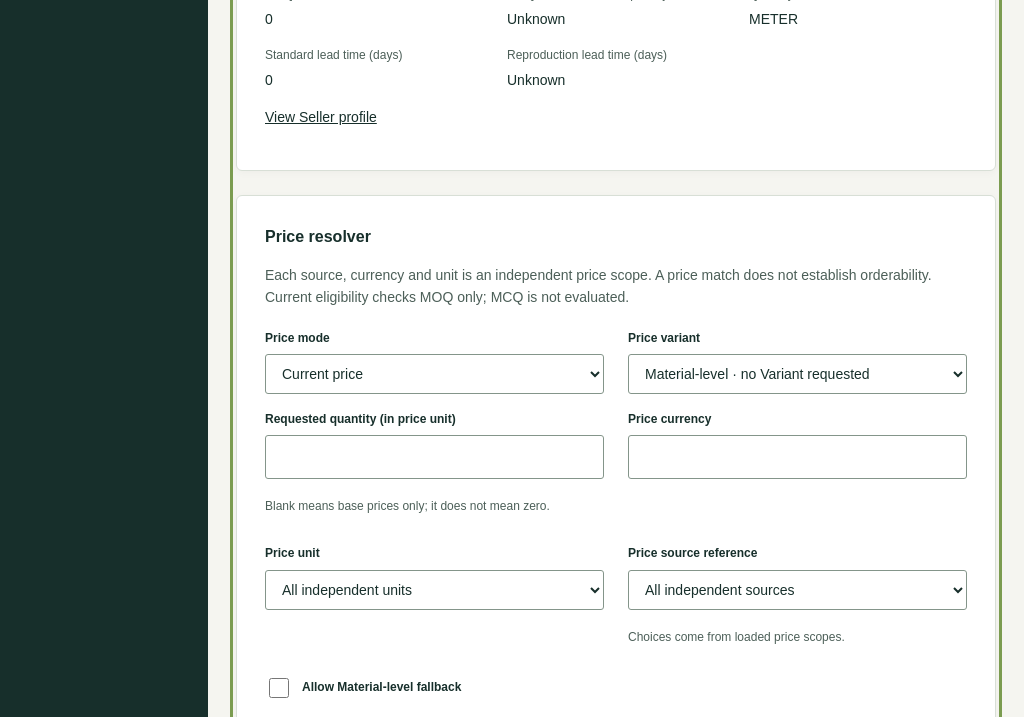
Scenario: historical lookup transmits explicit UTC, exact quantity, requestedVariantId and fallback
(page scrolled)
Select "Specified-time price" in the dropdown labelled "Price mode" at (434, 374), box [265,354,604,394]
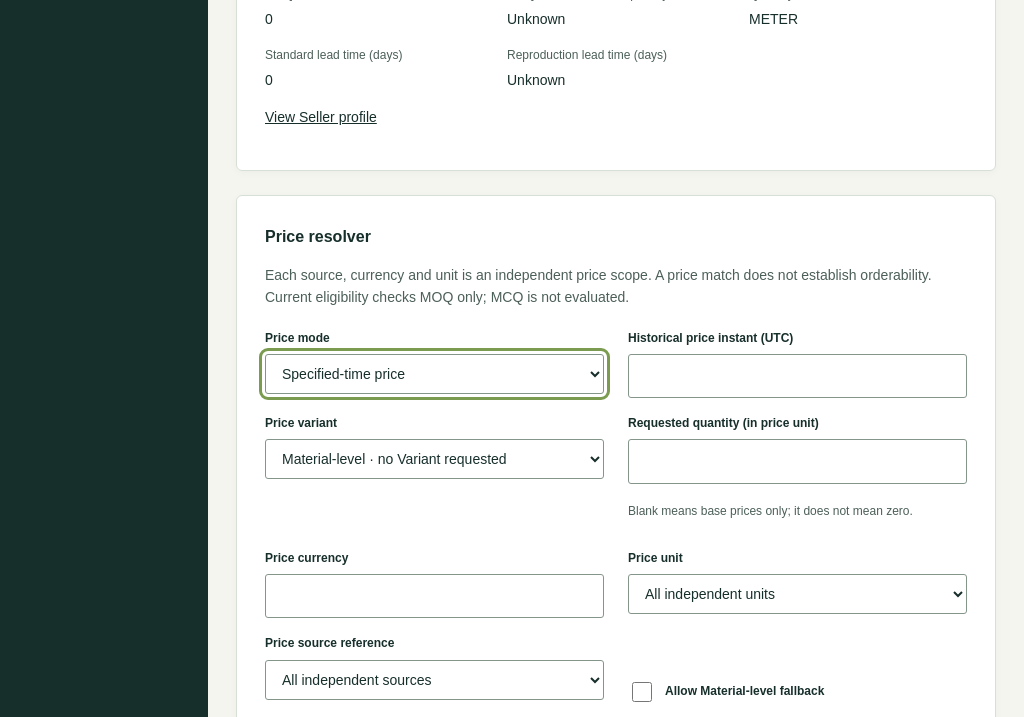
Type "2025-06-01T00:00:00Z" into the field labelled "Historical price instant (UTC)" at (798, 376), box [628,354,967,398]
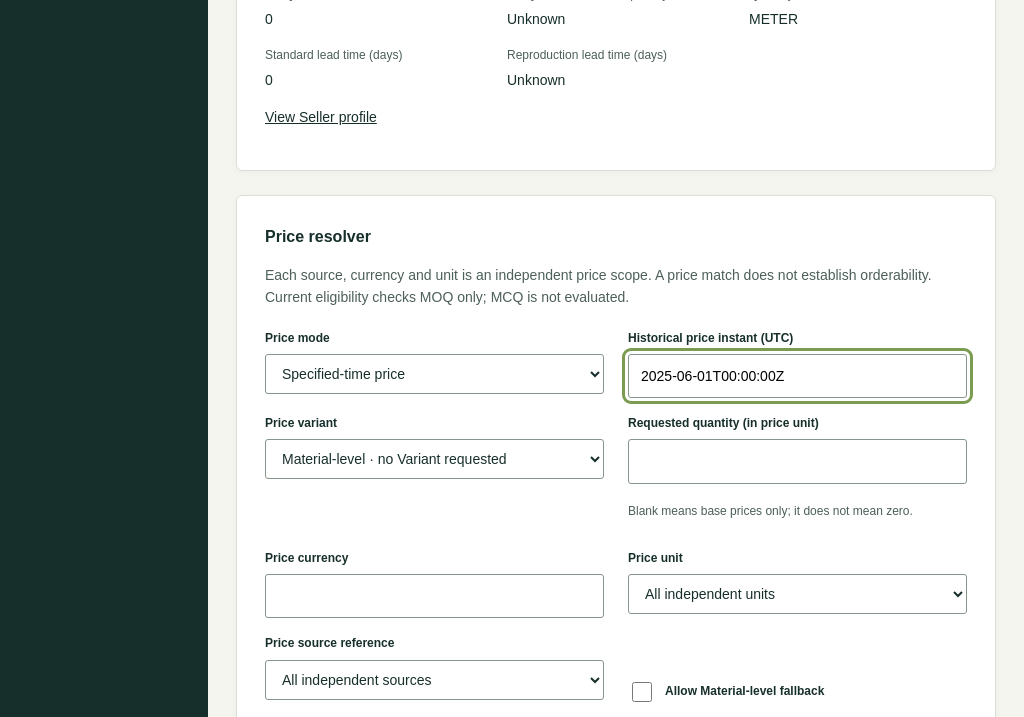
Type "999999999999999.9999" into the field labelled "Requested quantity (in price unit)" at (798, 462), box [628,439,967,484]
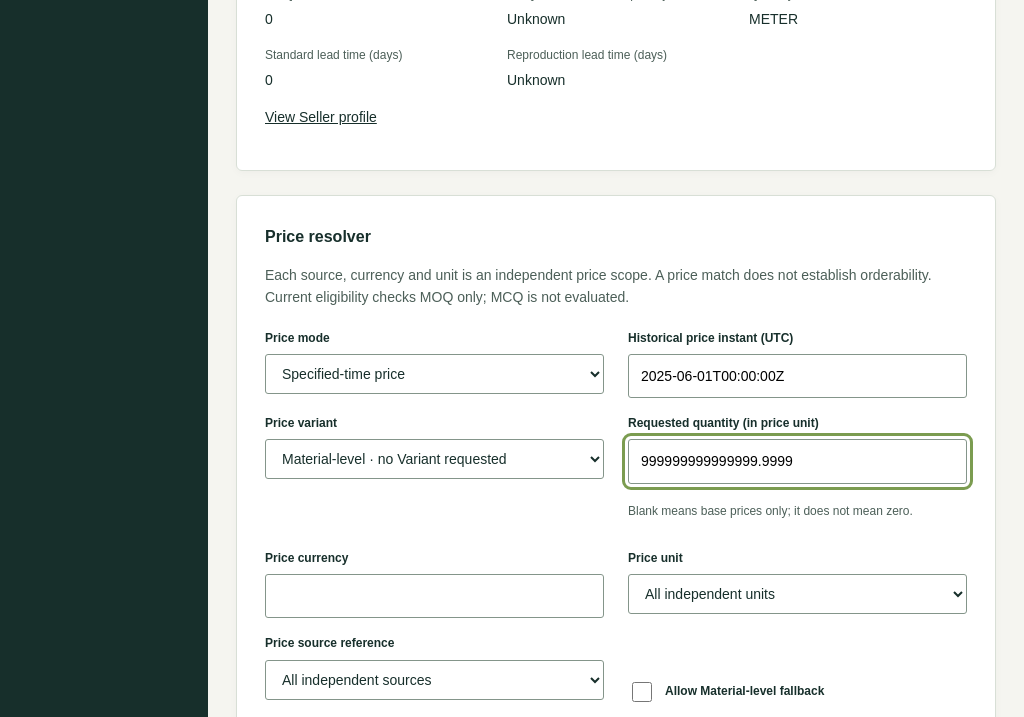
Select "Midnight blue" in the dropdown labelled "Price variant" at (434, 459), box [265,439,604,479]
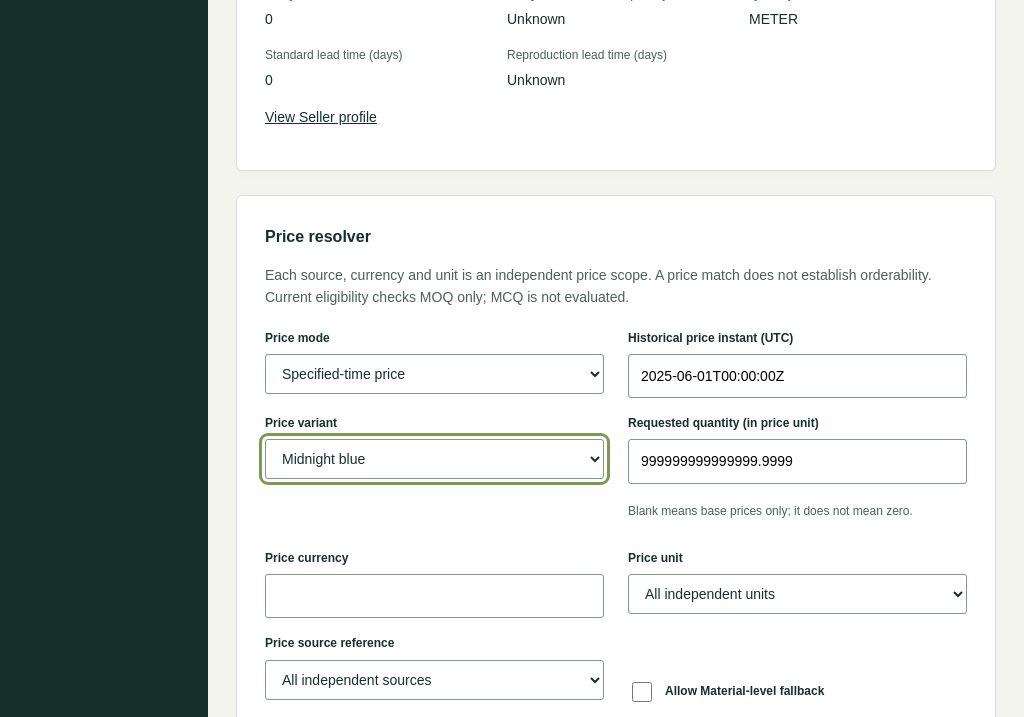
Click the checkbox labelled "Allow Material-level fallback" at (642, 692), box [632,682,652,702]
(page scrolled)
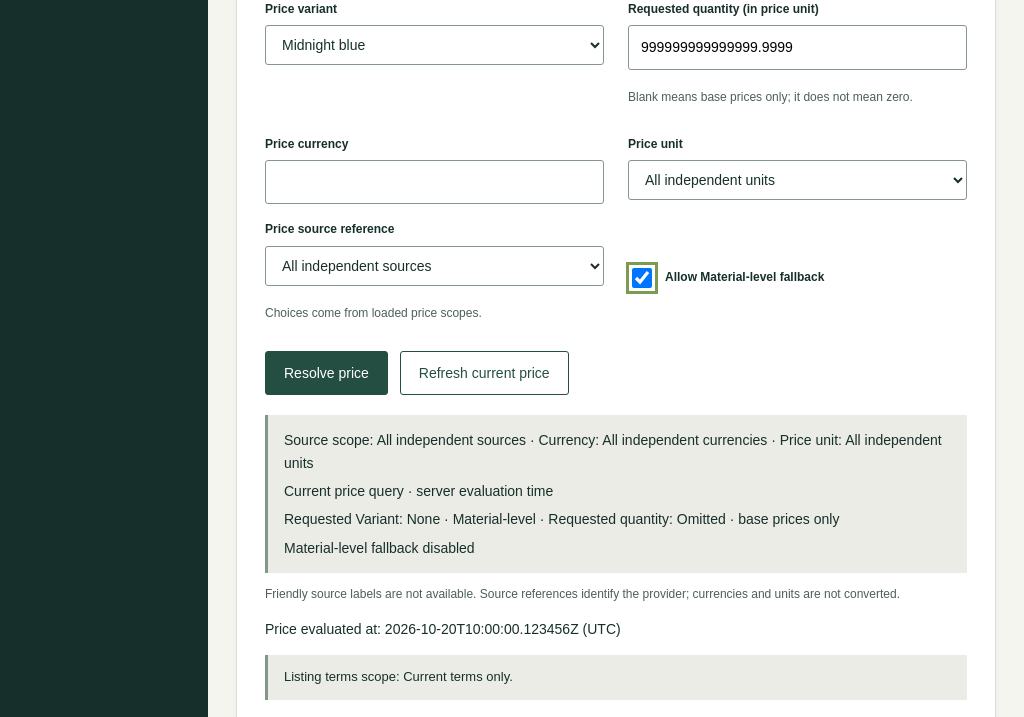
Click the button "Resolve price" at (326, 373), box [265,351,388,395]
(page scrolled)
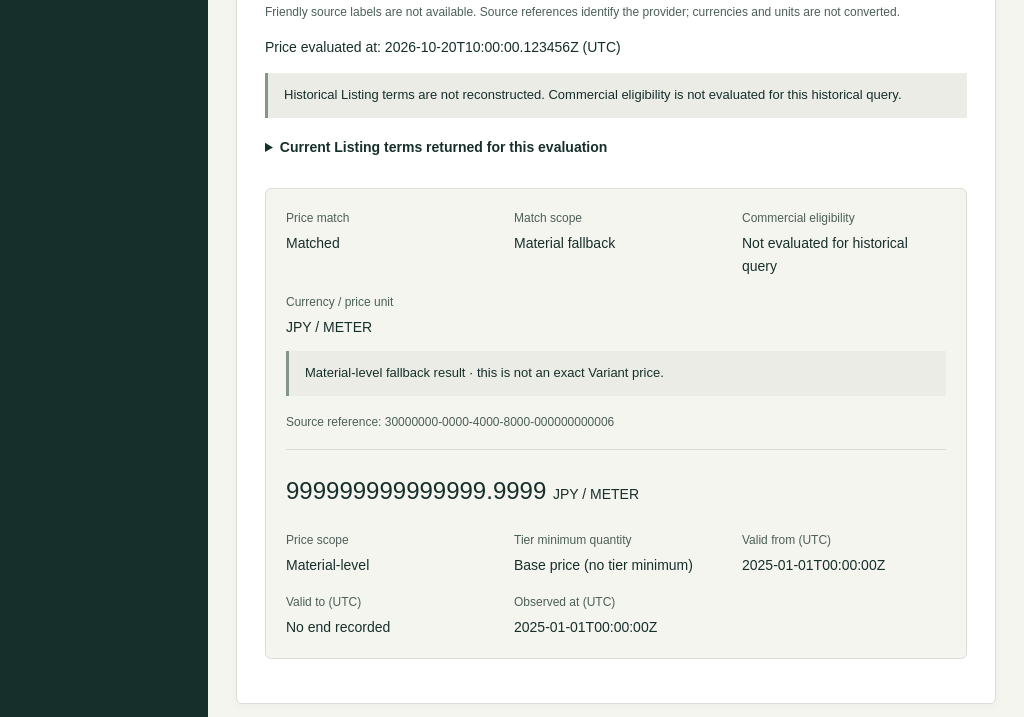
expect the text "Material-level fallback result" is shown: met, box [305,366,664,380]
expect the text "Not evaluated for historical query" is shown: met, box [742,235,908,274]
expect the text "Historical Listing terms are not reconstructed" is shown: met, box [284,87,902,102]
